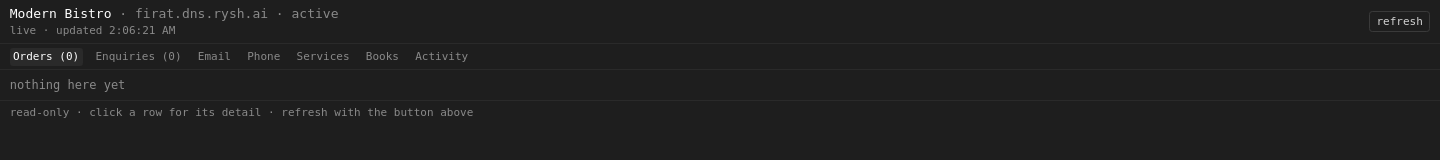
Test: CompanyView Books tab › Books without books in the snapshot says it is not available
Click the button "Books".
click(382, 57)  # box [363,48,402,66]
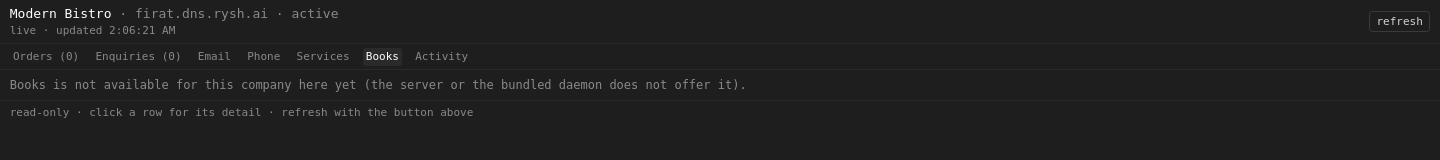
Check: the text "Books is not available" is shown, box [10,78,747,92]
